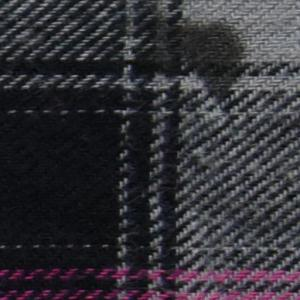Stain: (85, 1, 254, 113)
